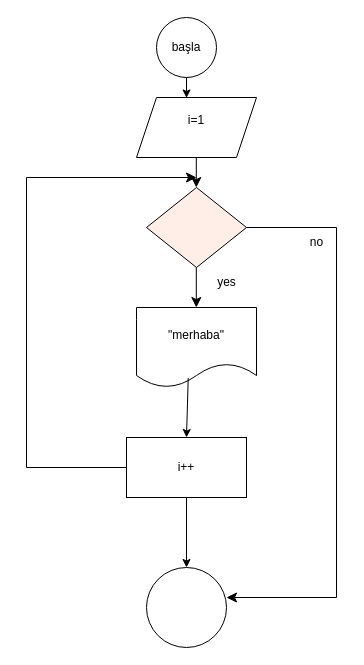
The diagram is 364 pixels wide and 665 high, and some of its shapes have lost their labels. The shapes that lost their labels are listed below. From the top down, each one's centre as x and y in pixels, then its label:
At [196,227]: "i<6".
At [186,607]: "bitir".
